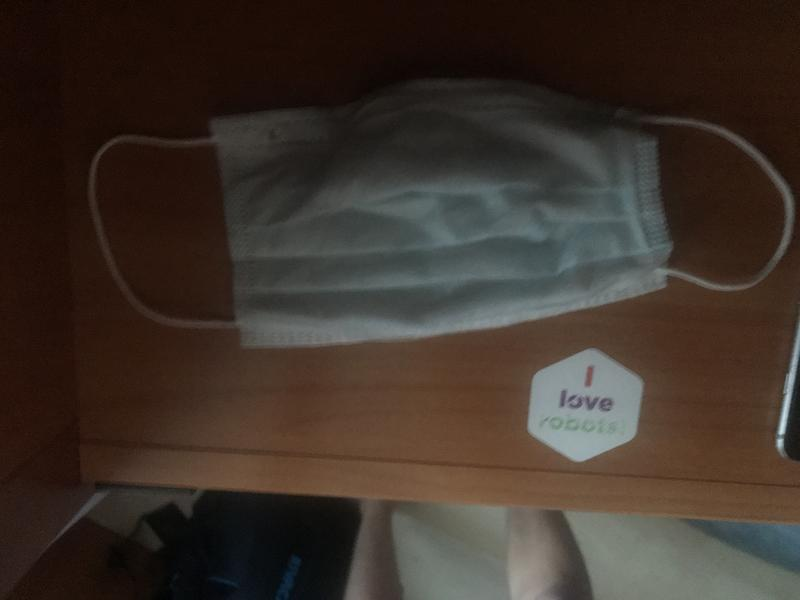medical_mask: (89, 80, 795, 348)
